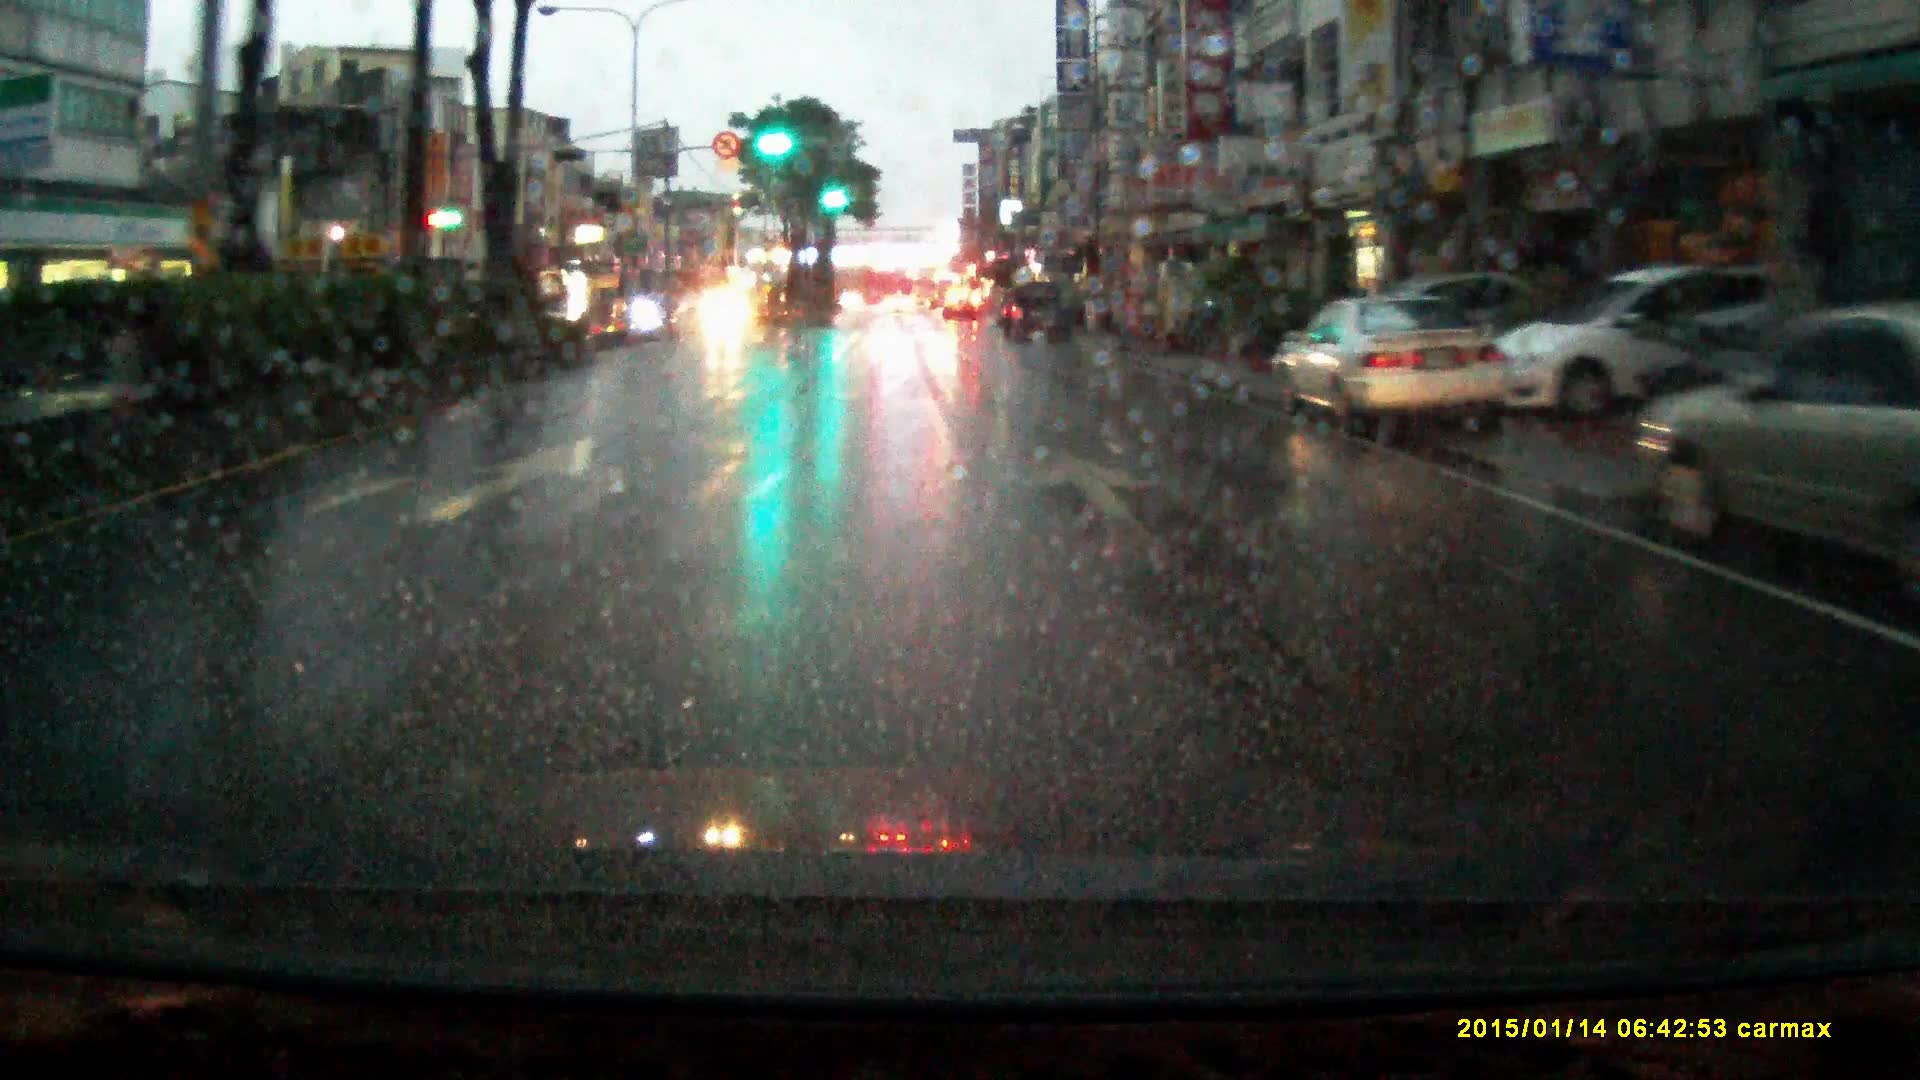vehicle: (1636, 309, 1920, 570), (1498, 264, 1799, 423), (1266, 295, 1514, 442), (1004, 285, 1076, 349), (691, 289, 756, 345), (617, 299, 665, 334), (913, 273, 942, 318), (944, 293, 978, 324), (884, 301, 916, 320)
